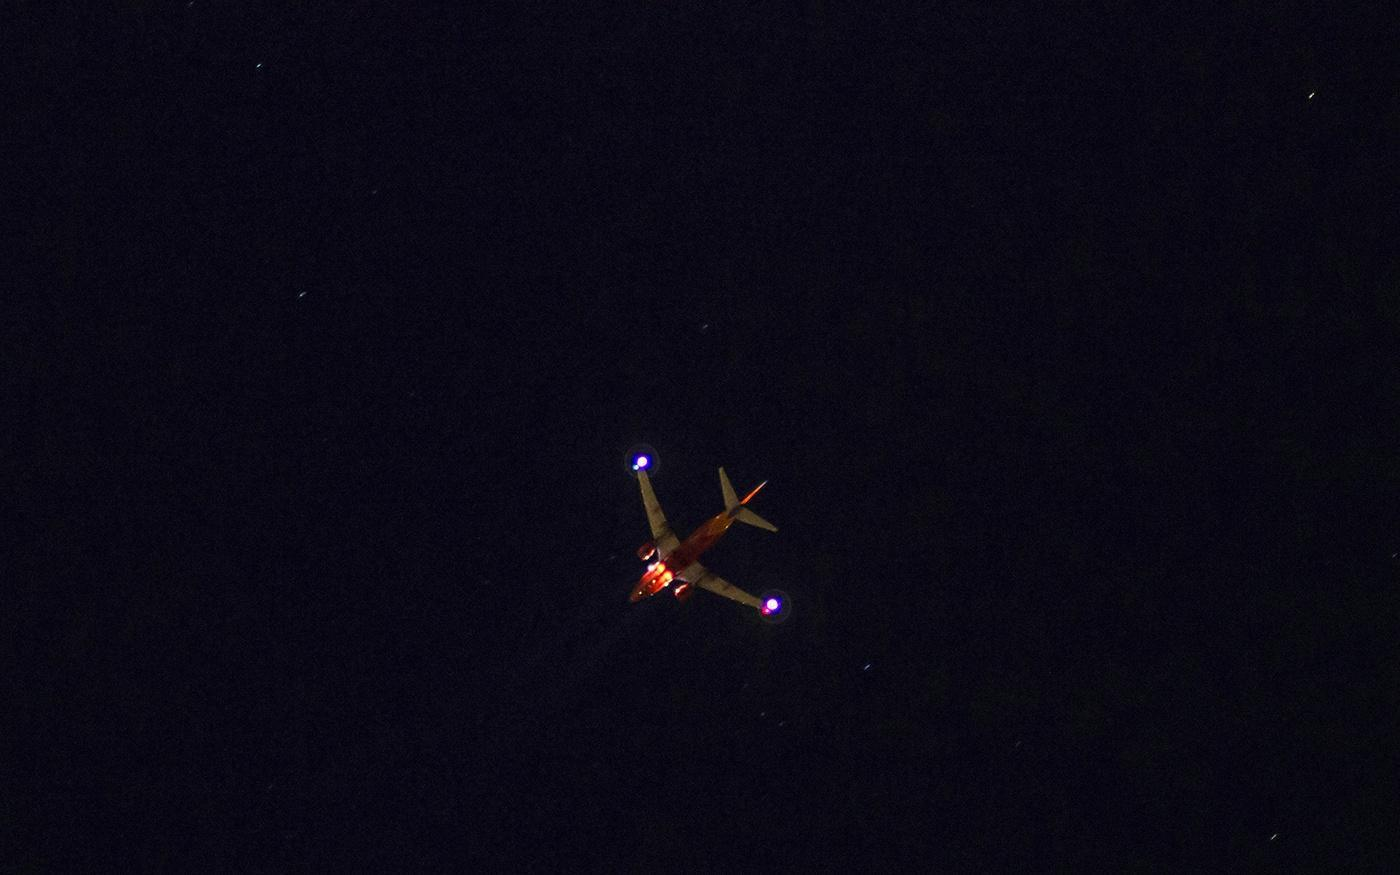Plane: (566, 433, 810, 657)
